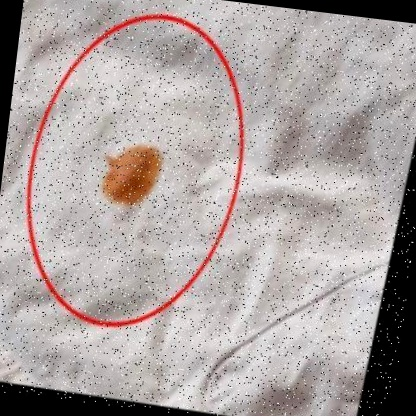kimchi: (89, 124, 179, 227)
